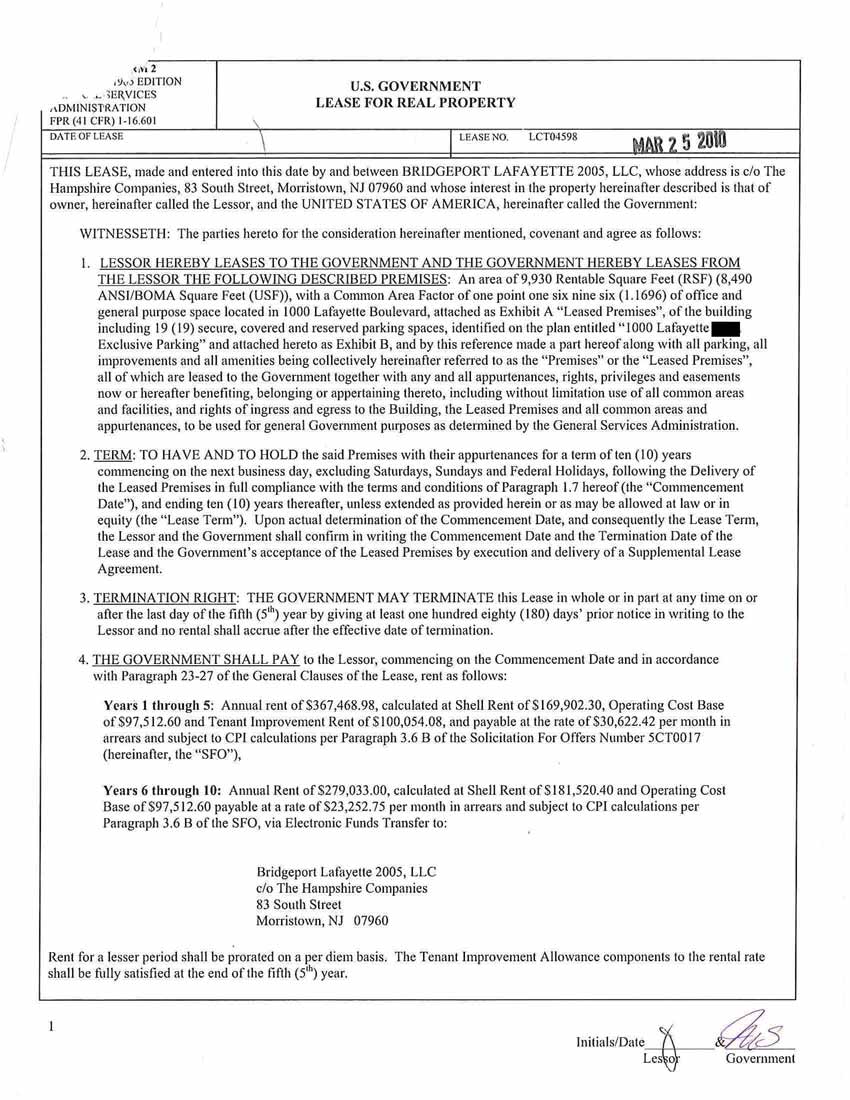handwritten: (710, 1006, 796, 1050), (650, 1016, 681, 1076)
